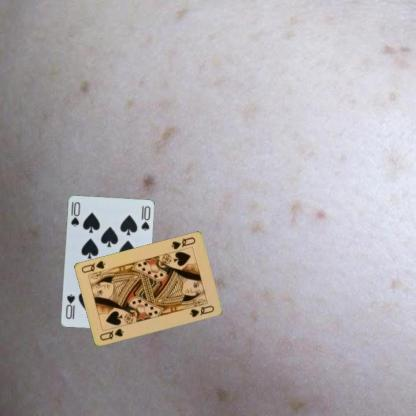10s: (68, 198, 81, 228)
Qs: (97, 326, 125, 342), (169, 234, 196, 250)
